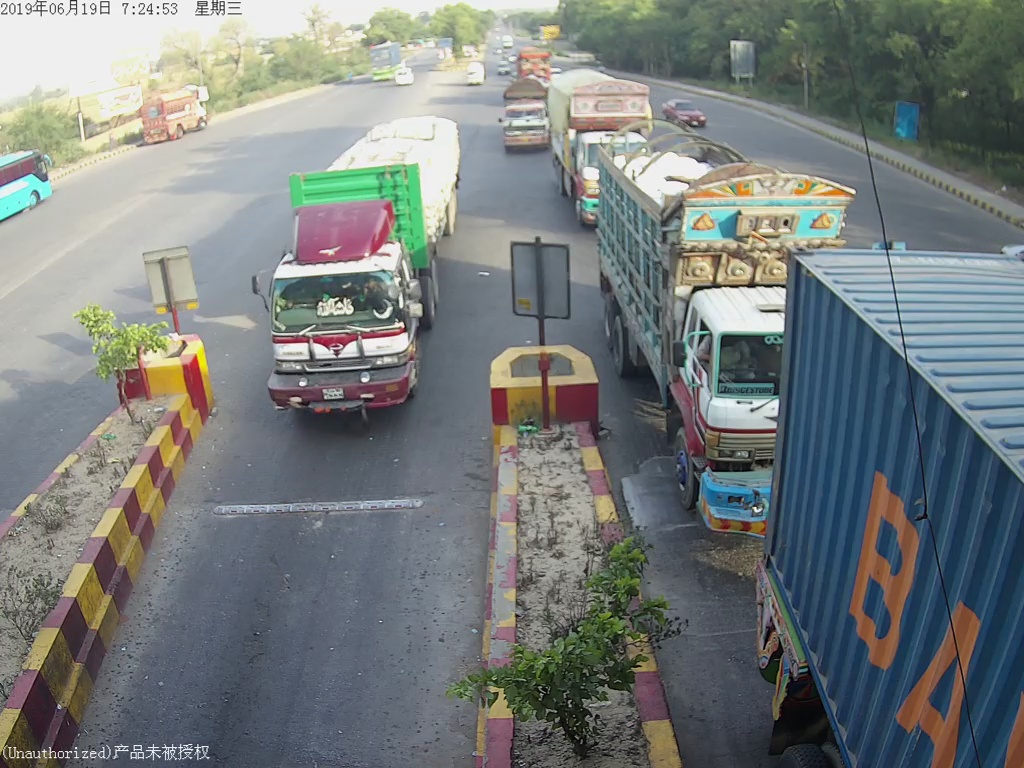Cat-4: (598, 117, 762, 524)
Cat-5: (257, 94, 471, 421)
